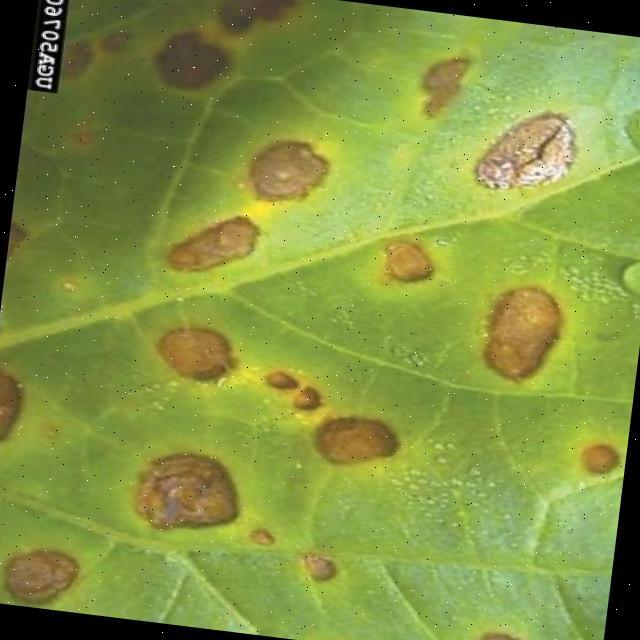Bacterial: (64, 17, 593, 618)
